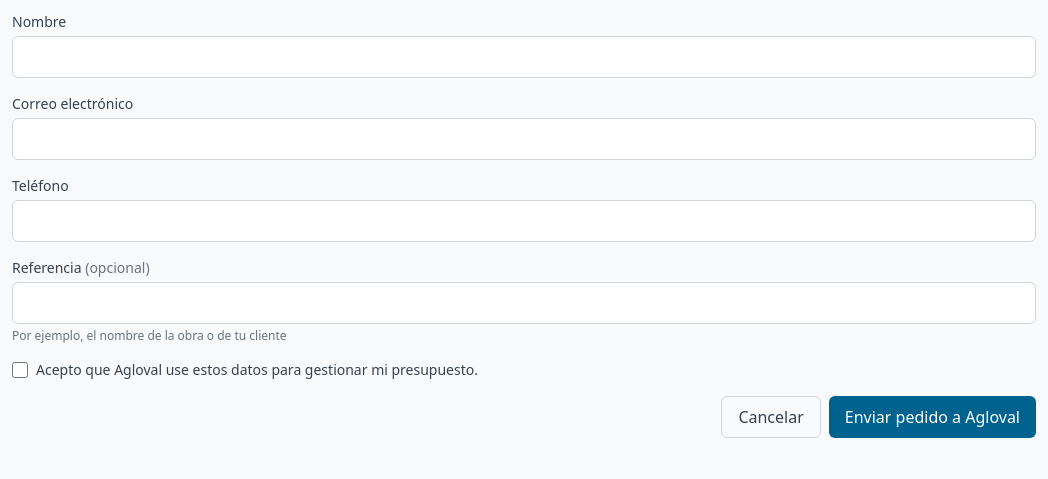
CustomerDetailsForm › rejects a name of one letter
Type " L " into the field labelled "Nombre".
click(524, 57); type(" L ")  # box [12,36,1036,78]
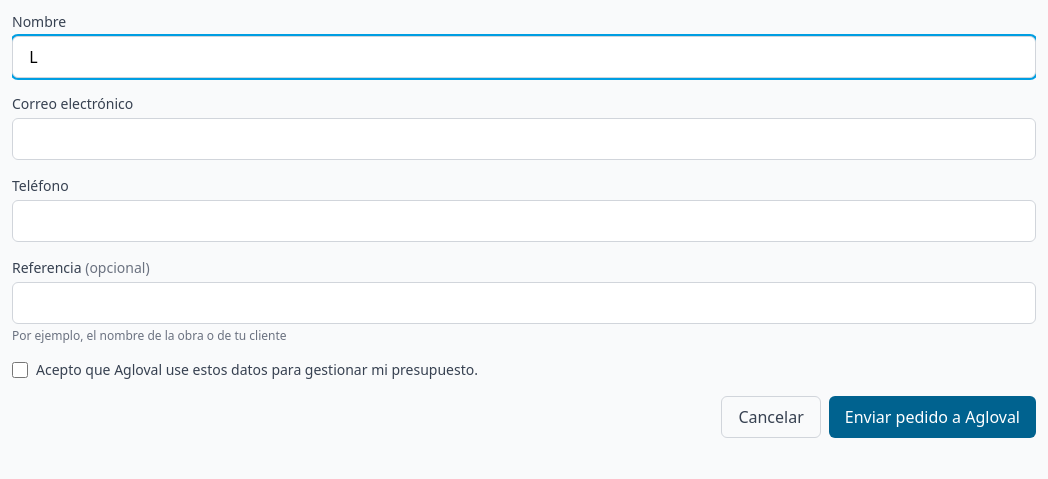
Type "lucia@example.com" into the field labelled "Correo electrónico".
click(524, 139); type("lucia@example.com")  # box [12,118,1036,160]
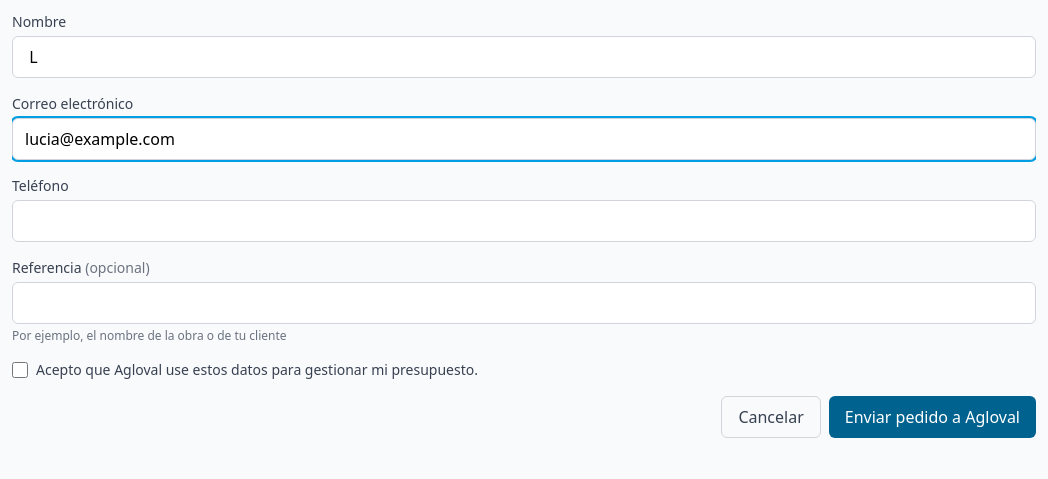
Type "+34 600 123 456" into the field labelled "Teléfono".
click(524, 221); type("+34 600 123 456")  # box [12,200,1036,242]
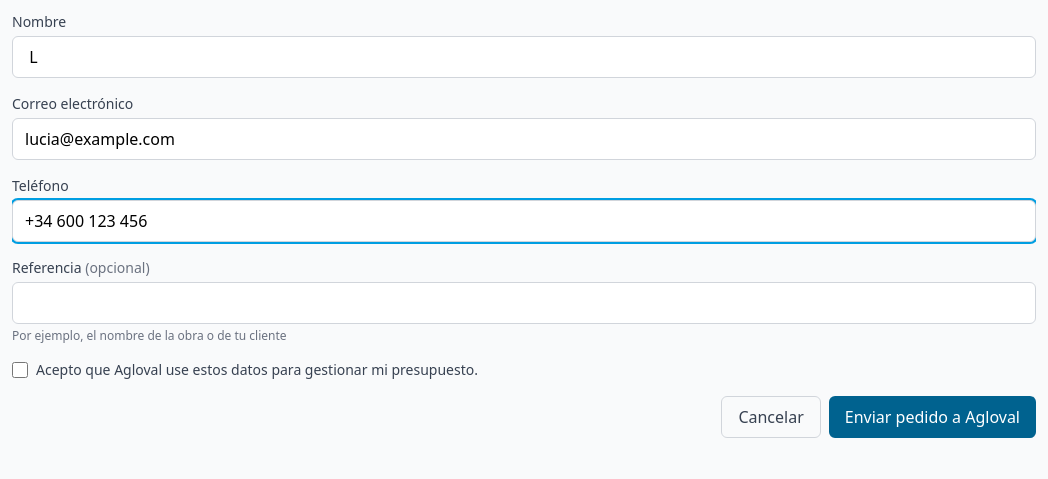
Click the checkbox labelled "Acepto que Agloval use estos datos para gestionar mi presupuesto.".
click(20, 370)  # box [12,362,28,378]
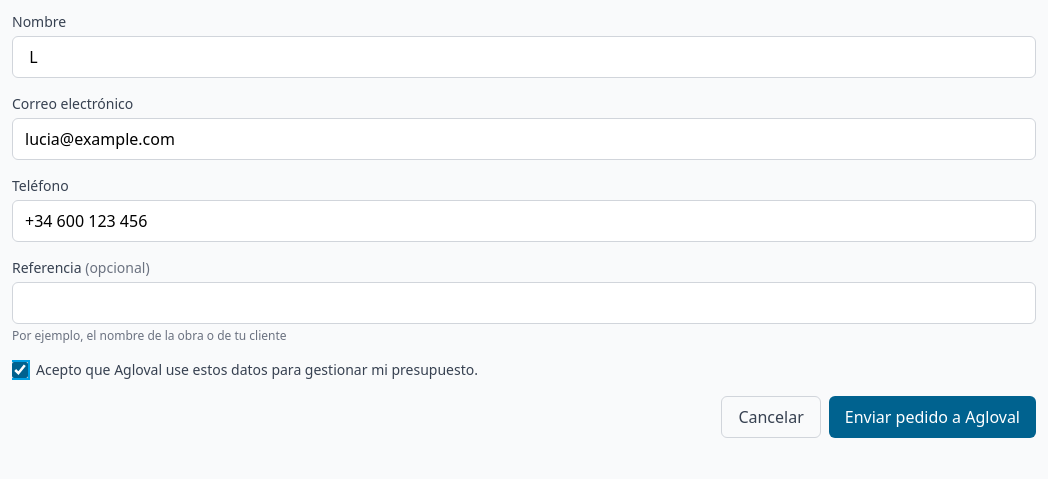
Click the button "Enviar pedido a Agloval".
click(932, 417)  # box [829,396,1036,438]
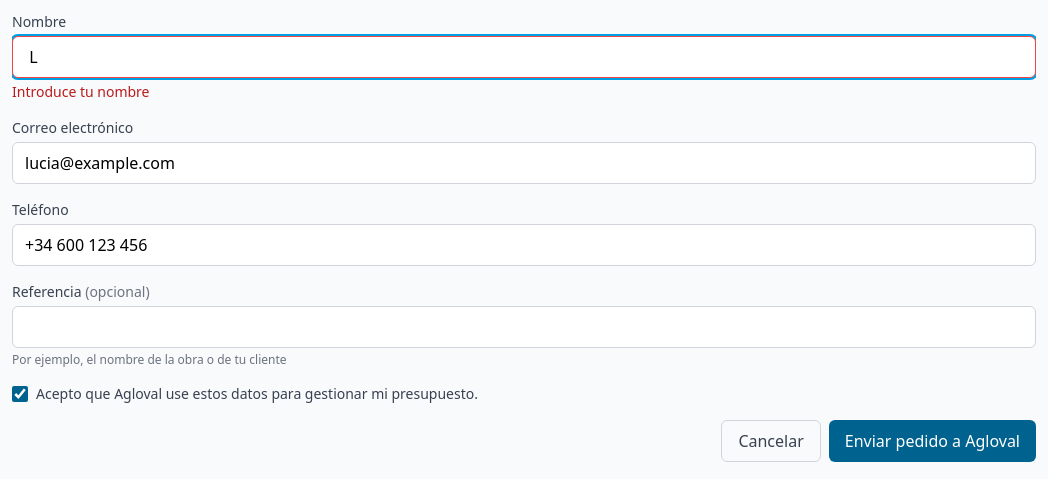
Expected: the text "Introduce tu nombre" is shown, [12,82,150,101]
